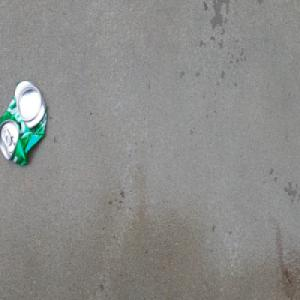SodaCan: (0, 79, 48, 169)
